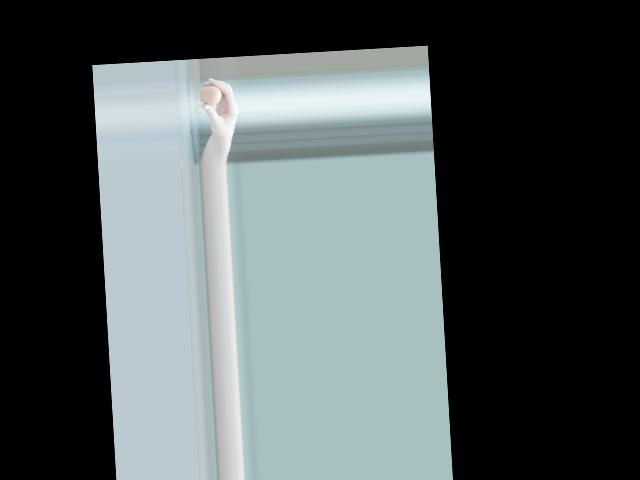egg: (199, 84, 222, 106)
